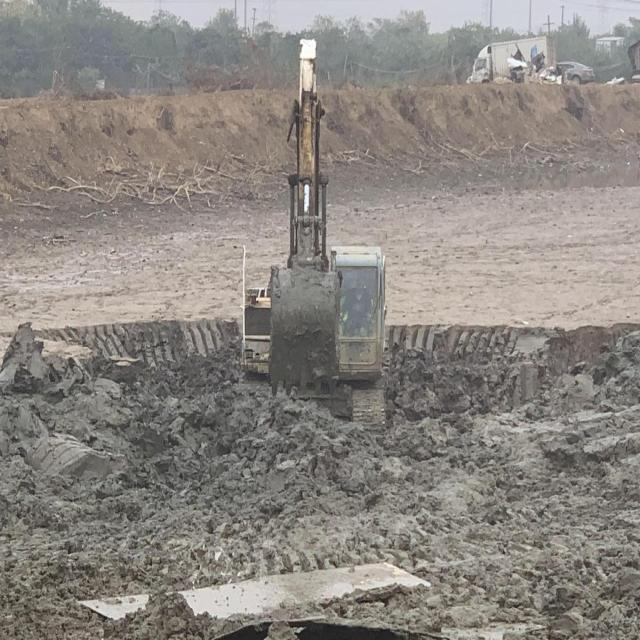excavator: (230, 26, 397, 440)
